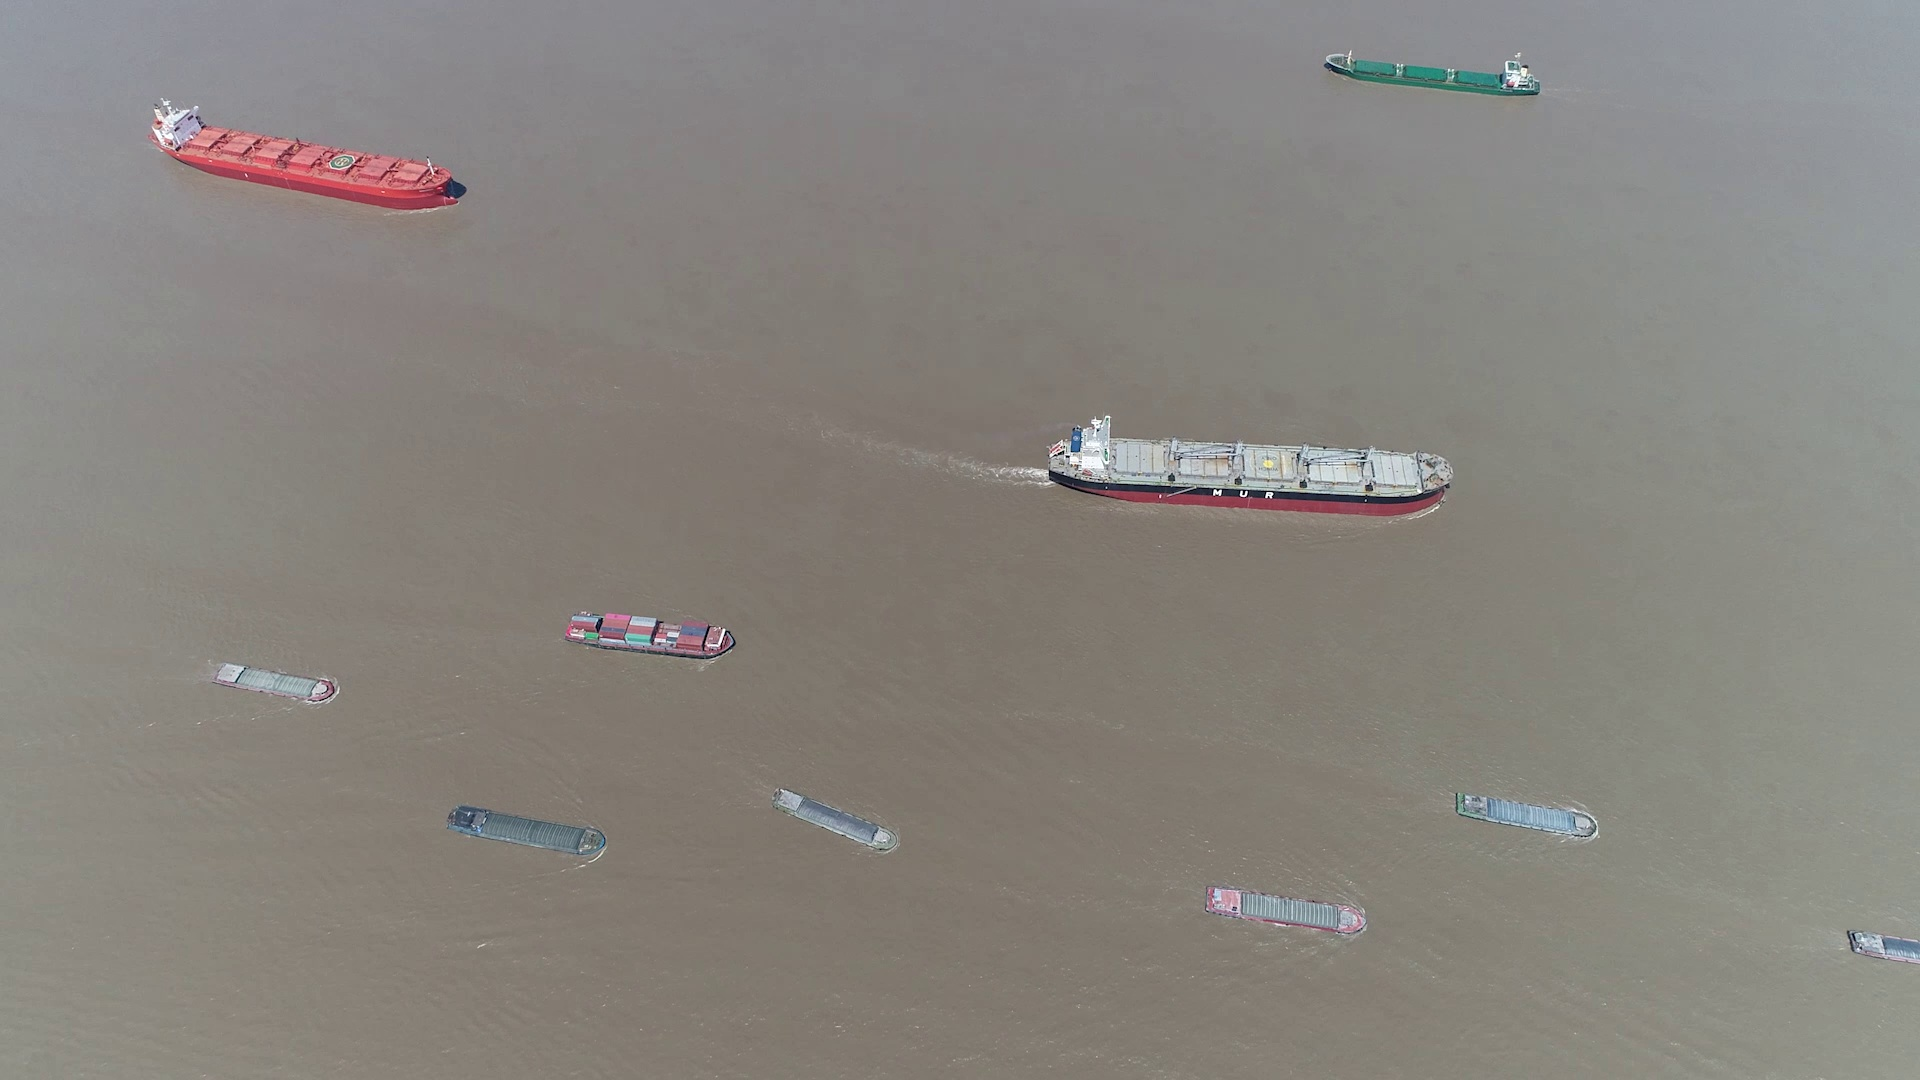ship: (1054, 421, 1452, 516), (153, 99, 458, 207), (1323, 50, 1542, 98), (448, 804, 607, 858), (1207, 886, 1371, 935), (563, 611, 736, 657), (774, 790, 897, 851), (1453, 793, 1598, 840), (212, 661, 339, 702), (1845, 930, 1919, 967)
